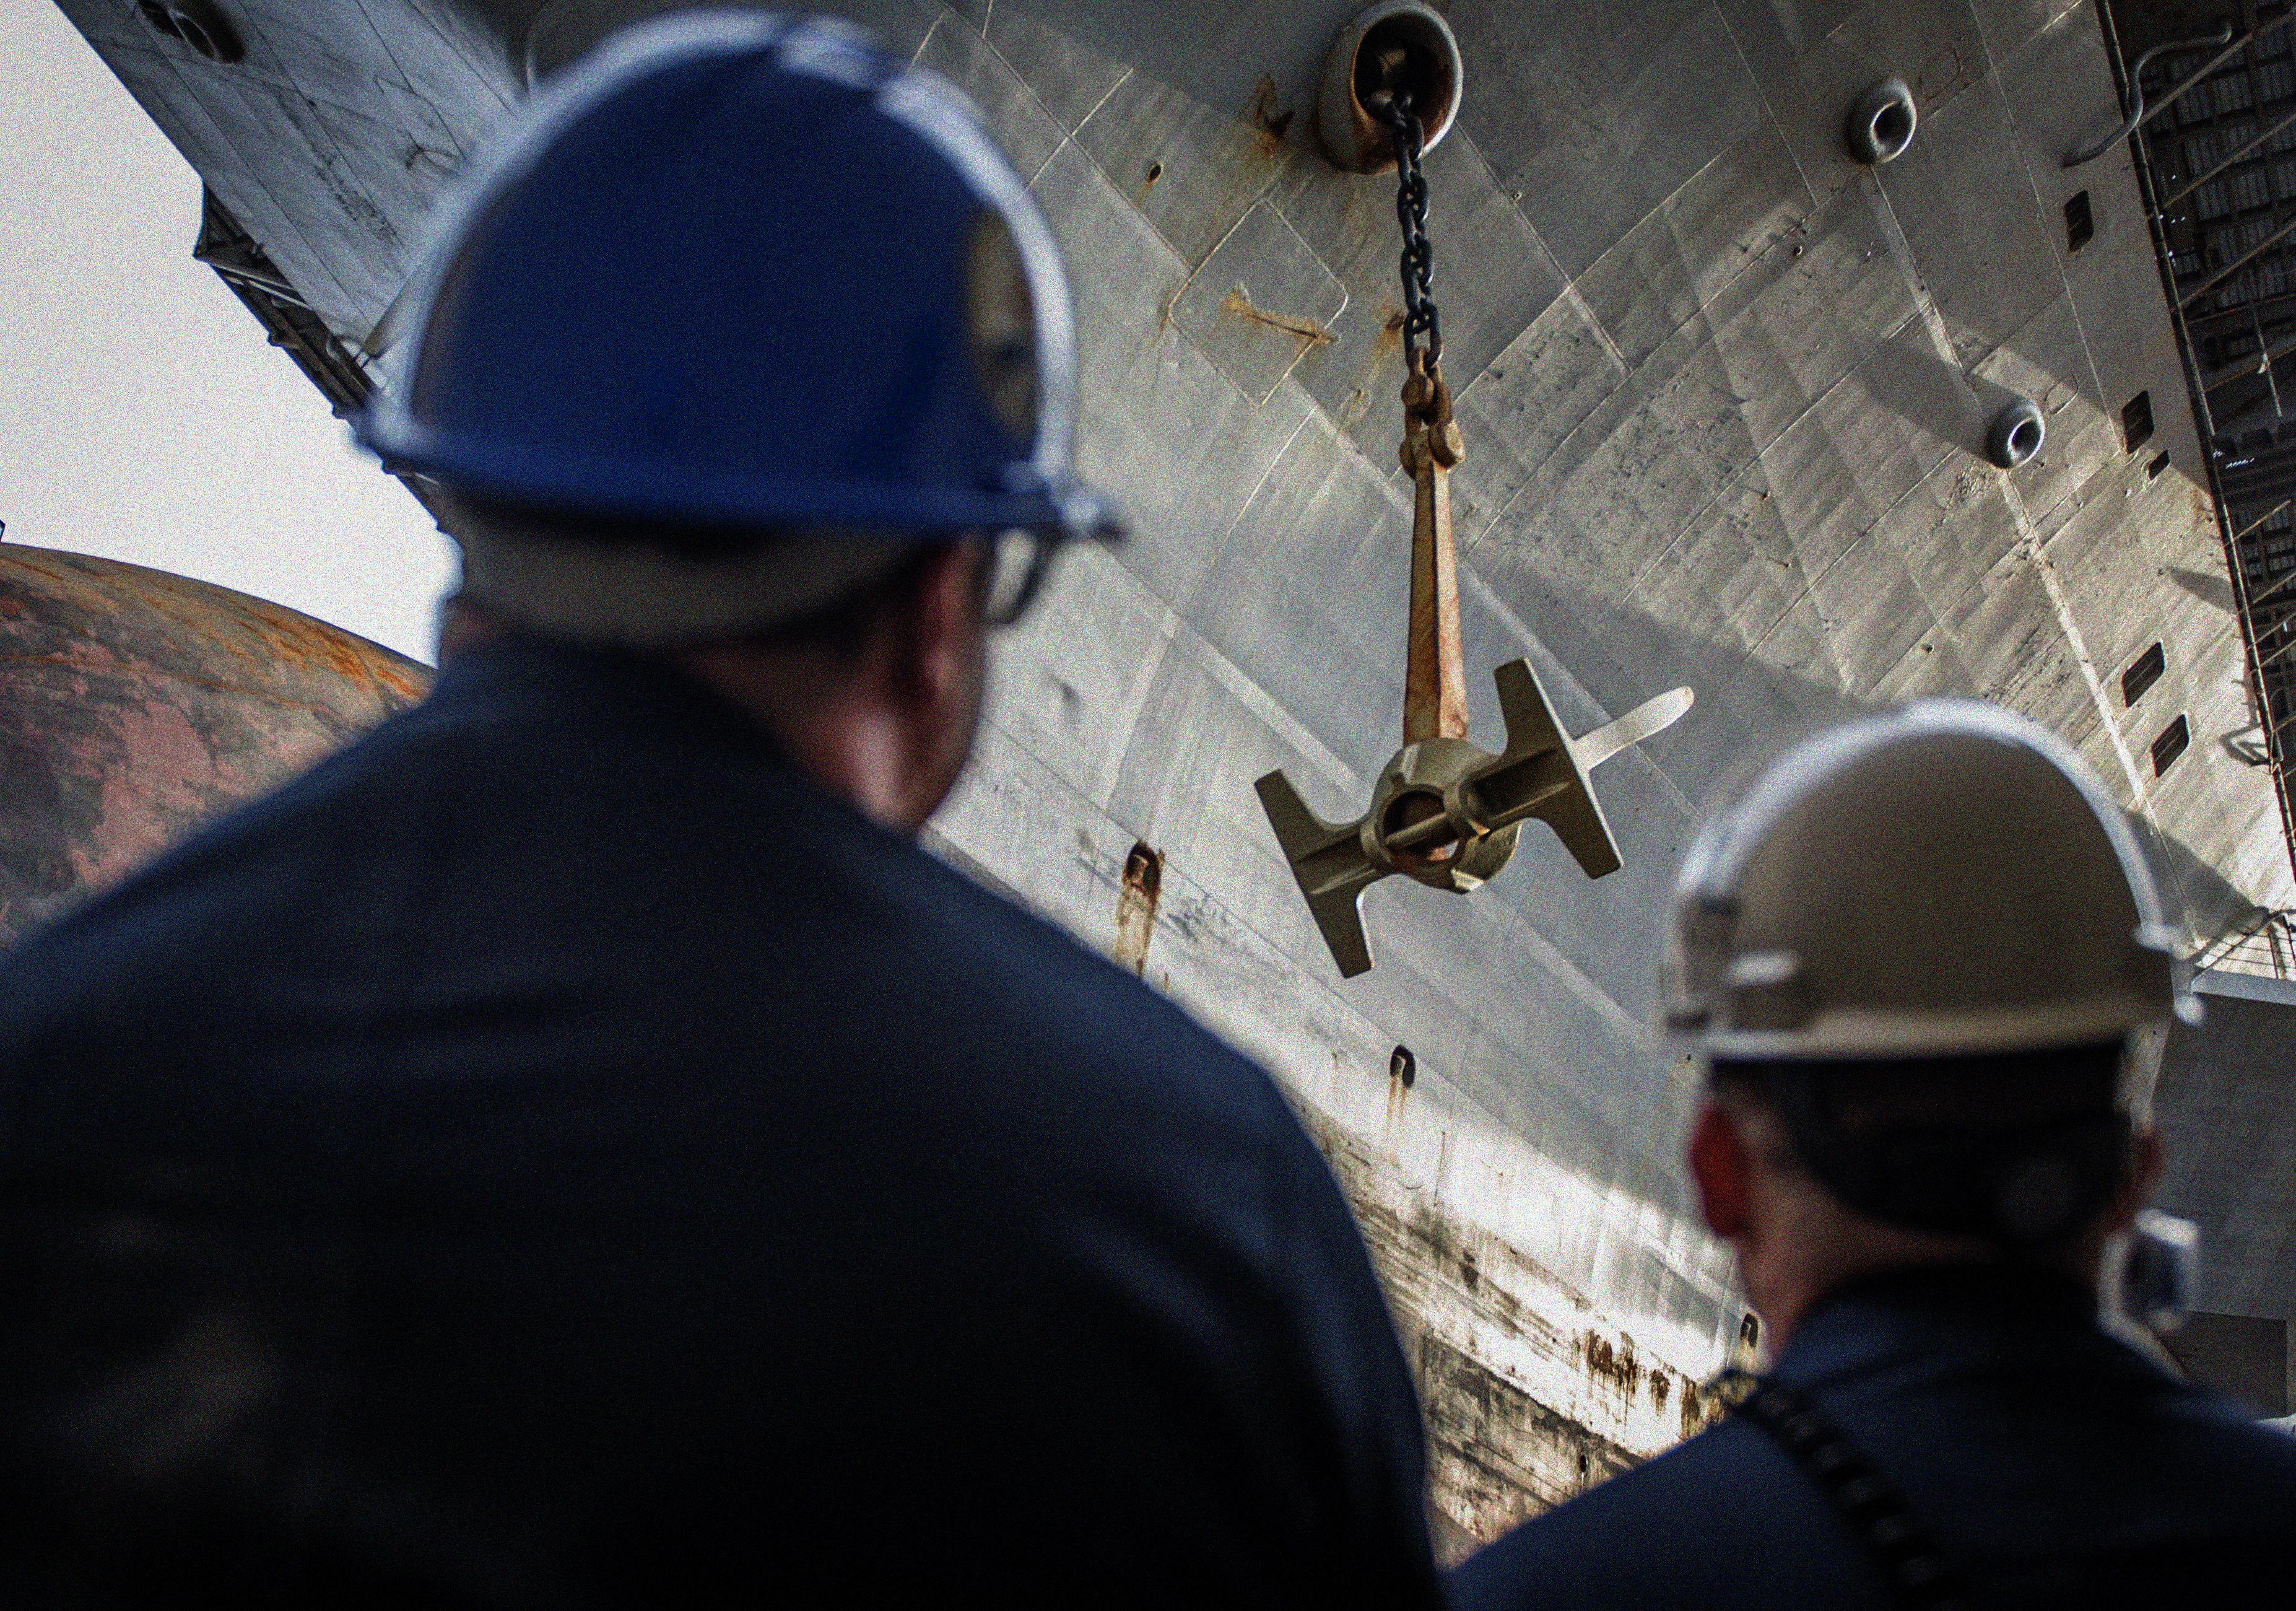helmet: (345, 0, 1097, 848), (1640, 698, 2190, 1311)
